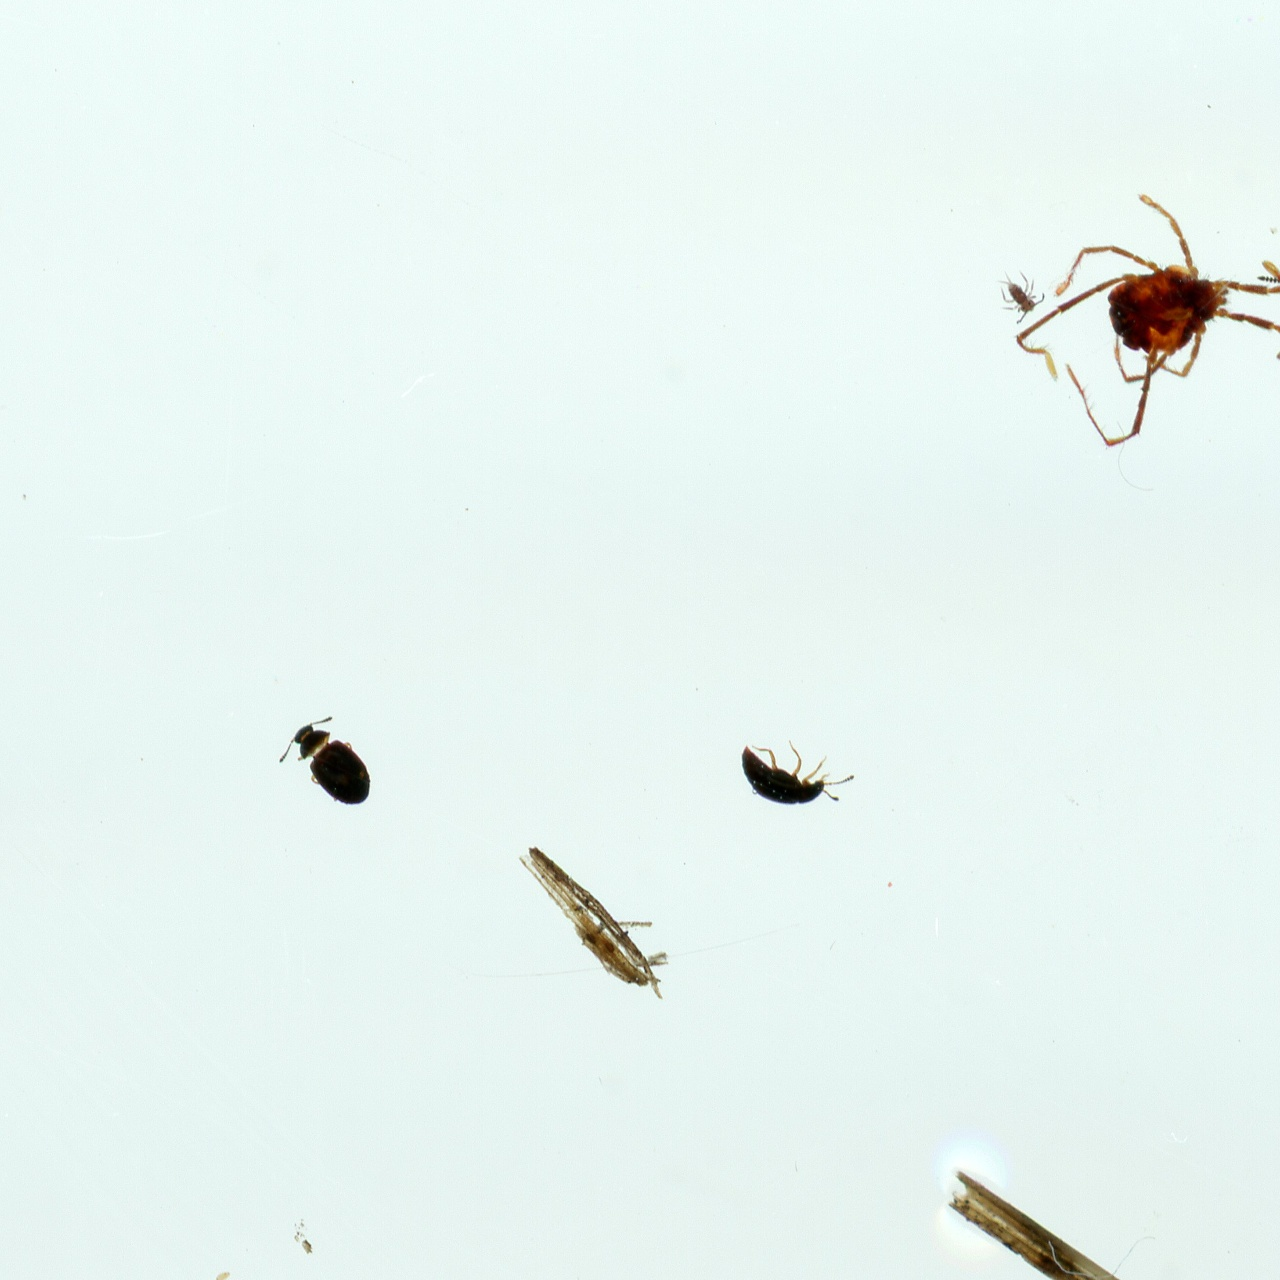arthropod: (989, 159, 1280, 465), (730, 733, 863, 820), (276, 713, 384, 808), (1250, 236, 1280, 438), (978, 256, 1052, 330)
